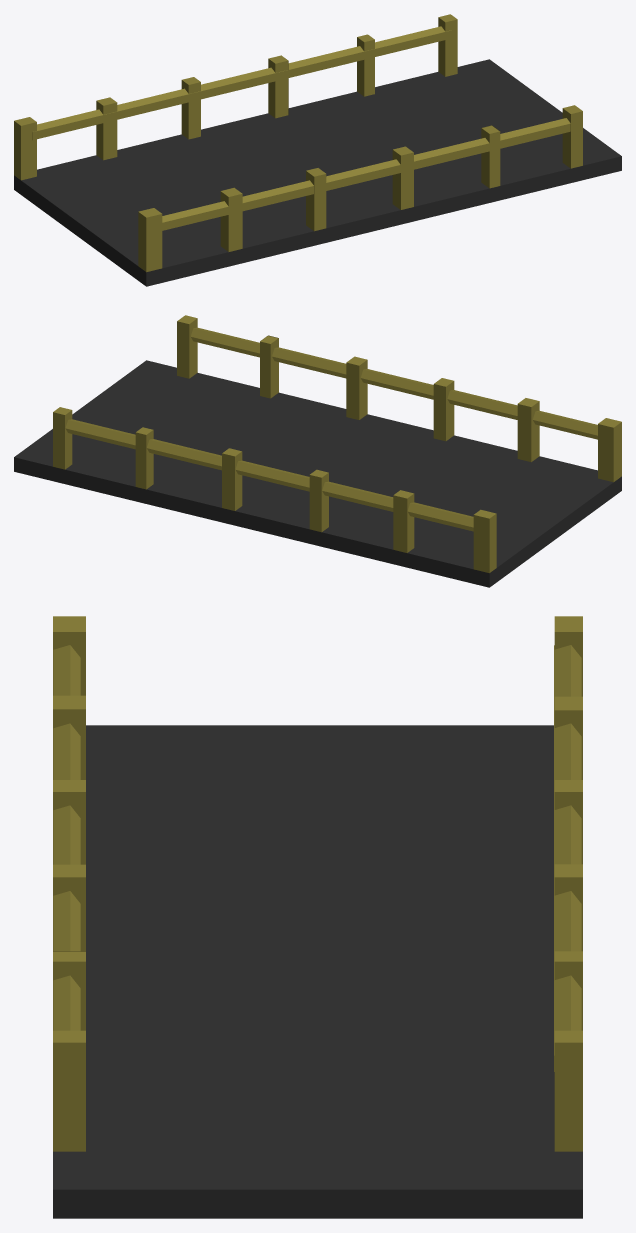
The model's file is Plataformas.fbx.
3 renders of one model, top to bottom at view 1: azimuth 30°, elevation 25°; view 2: azimuth 150°, elevation 25°; view 3: azimuth 270°, elevation 25°, orthographic. The views are drawn at different scales.
Visible parts, largest first — view 1: Plataforma; view 2: Plataforma; view 3: Plataforma.
Boxes of the visible parts, x1,y1,x2,y2 form: Plataforma: (14,14,621,286); Plataforma: (14,315,621,587); Plataforma: (53,616,582,1218).
Size of the model in its own units: 1750 by 245 by 844.
